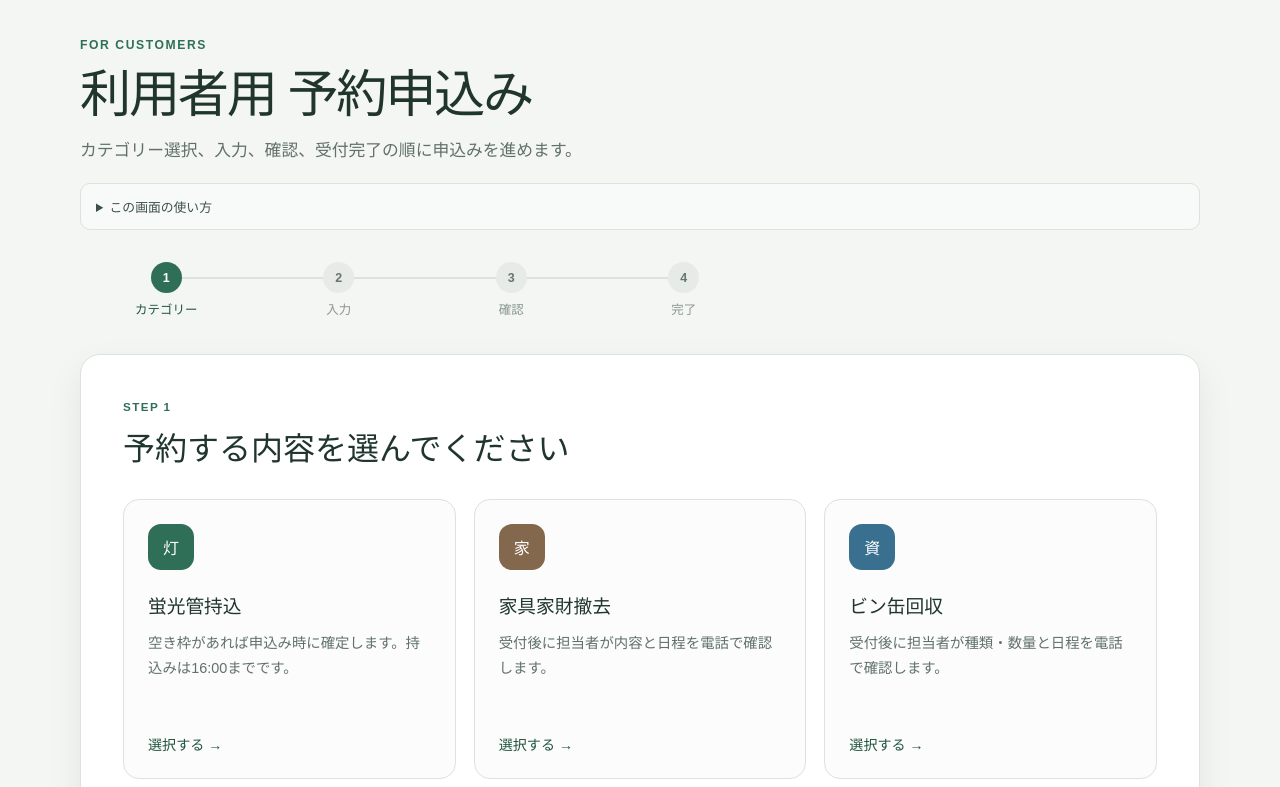
Test case: 利用者予約画面 › 空欄では確認へ進まず、項目別の修正案内を表示する
Click the button "家 家具家財撤去 受付後に担当者が内容と日程を電話で確認します。 選択する →". click: (640, 639)
box: [474, 499, 806, 779]
(page scrolled)
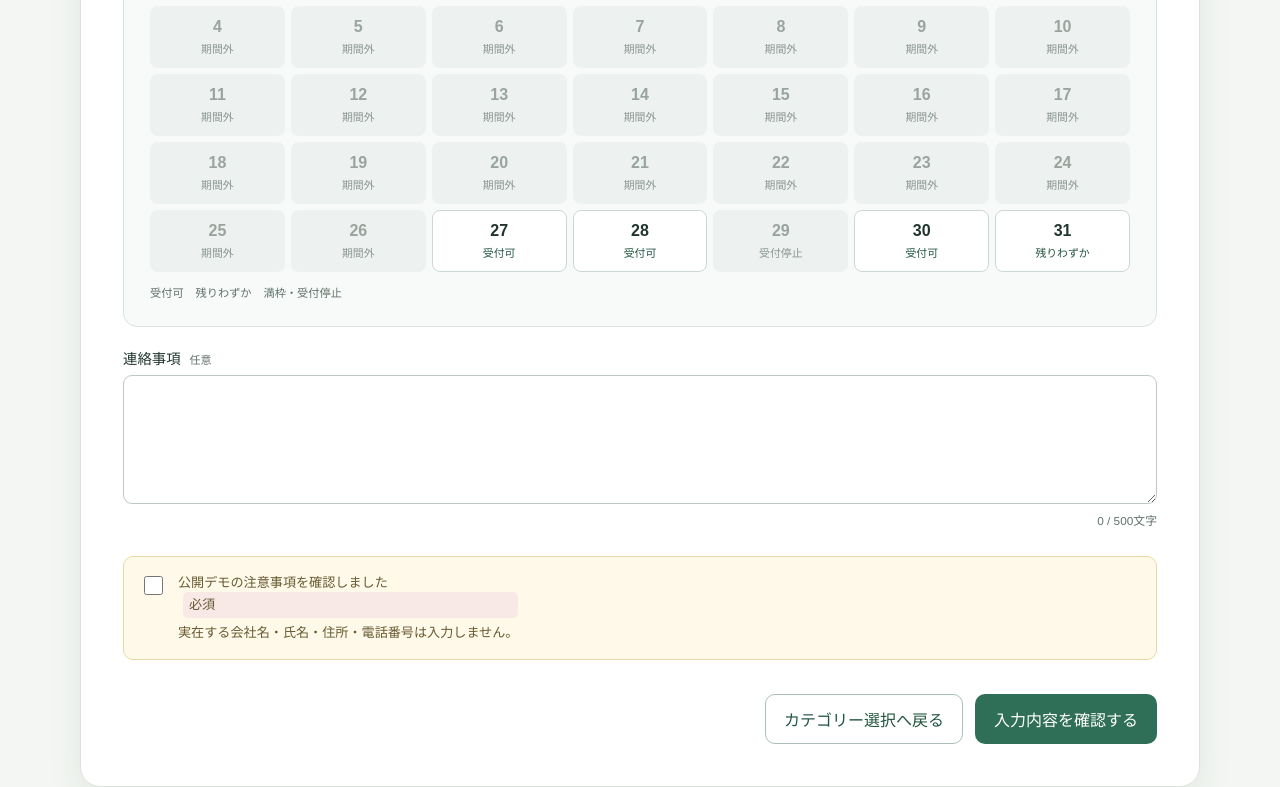
Click the button "入力内容を確認する". click: (1066, 719)
box: [975, 694, 1157, 744]
(page scrolled)
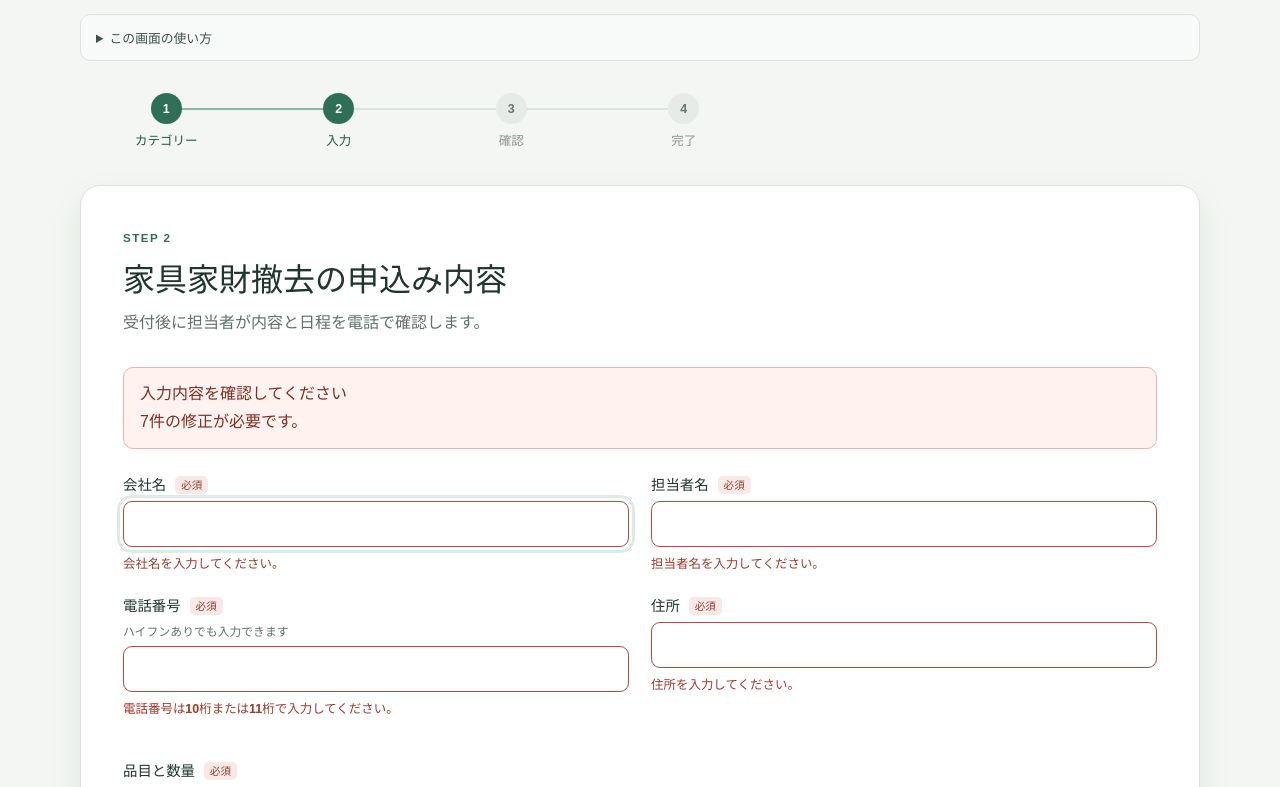
Result: the text "入力内容を確認してください" is shown at [140, 385, 347, 402]
Result: the text "会社名を入力してください。" is shown at [123, 557, 284, 571]
Result: the text "住所を入力してください。" is shown at [651, 678, 800, 692]
